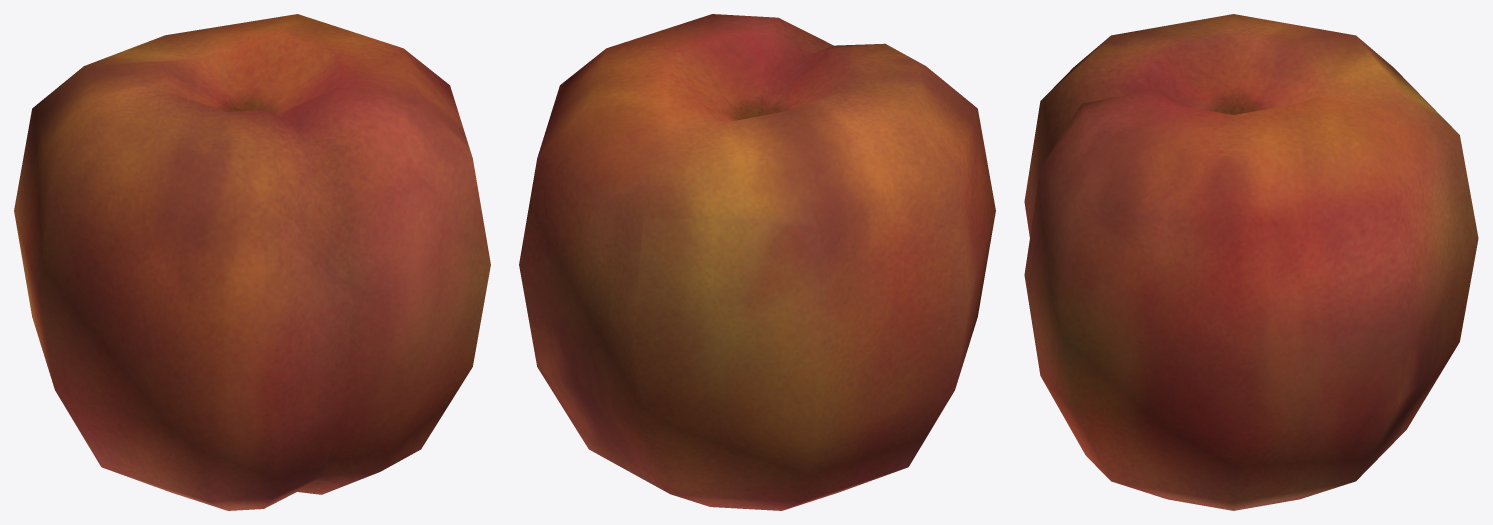
Rendered from peach.glb.
The picture shows the model from 3 angles, left to right: view 1: azimuth 30°, elevation 25°; view 2: azimuth 150°, elevation 25°; view 3: azimuth 270°, elevation 25°; orthographic projection.
Parts seen in each view (by area): view 1: peach; view 2: peach; view 3: peach.
Part boxes in pixels (x1,y1,x2,y2): peach: [14, 14, 490, 510]; peach: [519, 14, 995, 510]; peach: [1024, 14, 1478, 510].
Bounding box in the file's own units: 0.5 × 0.4458 × 0.4634.
Materials: 1 (1 with a texture image).
